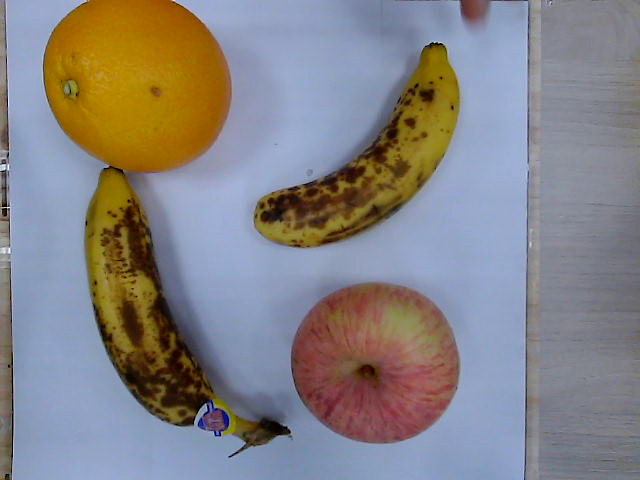fresh_apple: (290, 283, 462, 442)
fresh_orange: (45, 2, 231, 171)
rotten_banana: (84, 168, 290, 450), (253, 45, 461, 248)
